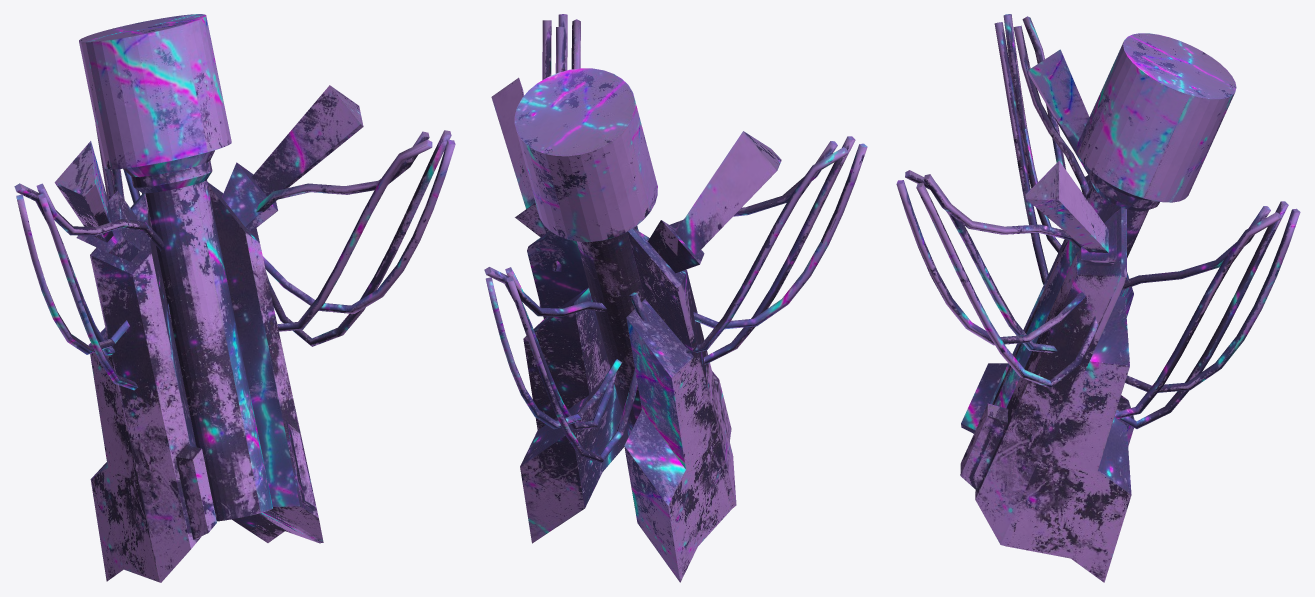
Rendered from Healthcare_Brainstem.glb.
3 views of the same model, side by side, from view 1: azimuth 30°, elevation 25°; view 2: azimuth 150°, elevation 25°; view 3: azimuth 270°, elevation 25° (orthographic). The views are drawn at different scales.
Visible parts, largest first — view 1: Ethical, Case, Current, Potential, Developing_tech; view 2: Ethical, Case, Potential, Developing_tech, Current; view 3: Case, Developing_tech, Potential, Ethical, Current.
Part boxes in pixels (bbox=[...]): Ethical: bbox=[54, 141, 216, 582]; Case: bbox=[207, 85, 363, 543]; Current: bbox=[142, 180, 272, 521]; Potential: bbox=[79, 14, 231, 193]; Developing_tech: bbox=[14, 125, 455, 390]; Ethical: bbox=[624, 131, 781, 582]; Case: bbox=[491, 77, 628, 543]; Potential: bbox=[514, 68, 657, 241]; Developing_tech: bbox=[484, 14, 867, 463]; Current: bbox=[577, 225, 644, 436]; Case: bbox=[960, 161, 1131, 582]; Developing_tech: bbox=[896, 14, 1300, 428]; Potential: bbox=[1076, 33, 1236, 211]; Ethical: bbox=[961, 49, 1134, 445]; Current: bbox=[992, 184, 1148, 408].
Size of the model in its own units: 0.572 by 0.7461 by 0.5468.
1 material, 1 textured.
